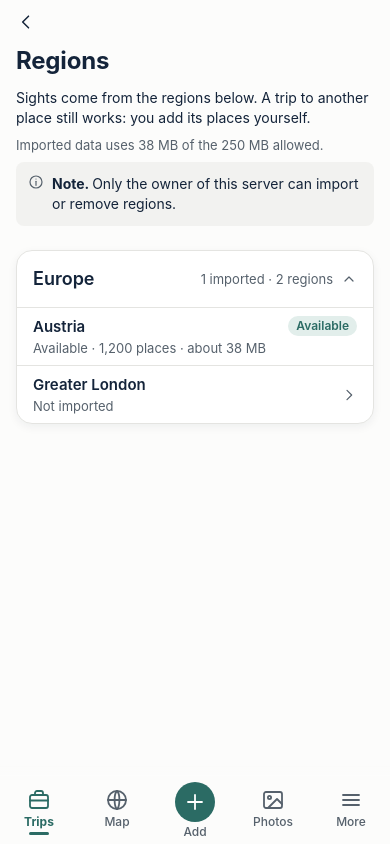
it: someone who is not the owner can read the list but not import or remove
expect the text "Only the owner of this server" is shown: met, box [52,175,362,212]
Click the button with test id "region-greater-london". click: (89,384)
box: [17,366,373,423]
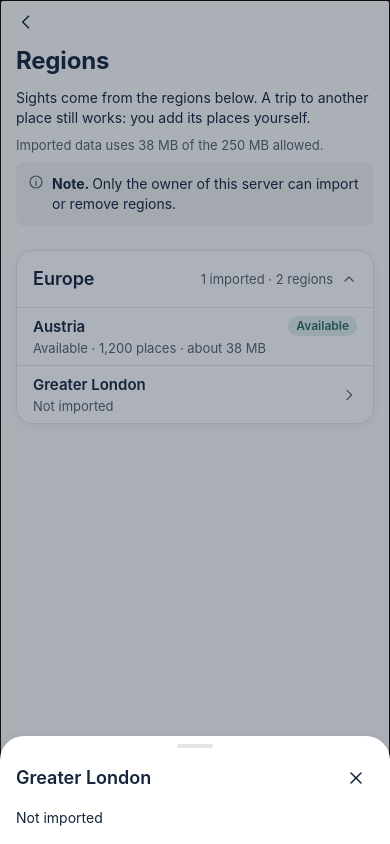
expect the text "Not imported" is shown 2 times: met, box [33,398,114,414]; [16,809,103,826]
